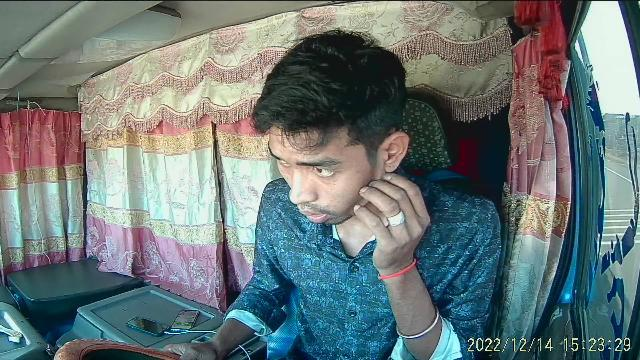PhoneUse: (124, 314, 172, 338), (170, 308, 202, 332)
SafeDriving: (297, 153, 342, 179)
